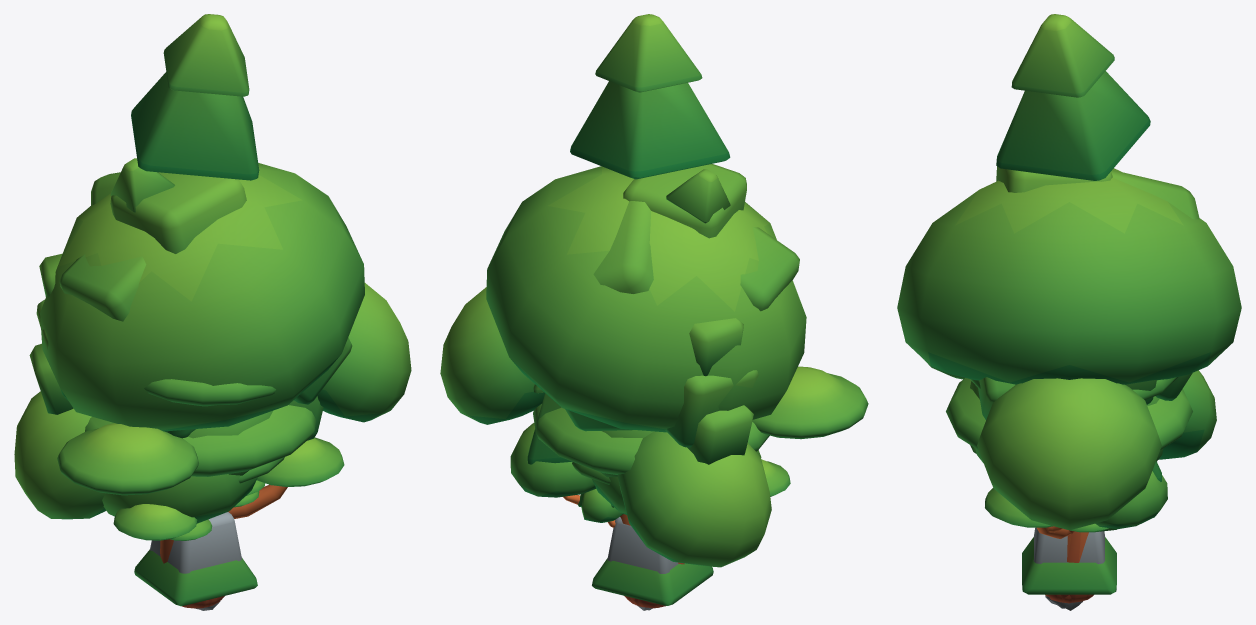
File: forest.glb
3 views of the same model, side by side, from view 1: azimuth 30°, elevation 25°; view 2: azimuth 150°, elevation 25°; view 3: azimuth 270°, elevation 25° (orthographic).
Visible parts, largest first — view 1: Tree_1_C_Color1, Tree_4_C_Color1, Tree_3_C_Color1, Tree_2_D_Color1, Tree_3_B_Color1, Bush_4_C_Color1, Tree_1_A_Color1, Rock_2_C_Color1, Tree_2_C_Color1, Tree_3_A_Color1, Tree_1_B_Color1, Tree_2_B_Color1; view 2: Tree_1_C_Color1, Tree_4_C_Color1, Tree_2_D_Color1, Tree_3_C_Color1, Tree_3_B_Color1, Tree_2_C_Color1, Bush_4_C_Color1, Tree_1_B_Color1, Rock_2_C_Color1, Tree_1_A_Color1; view 3: Tree_1_C_Color1, Tree_4_C_Color1, Tree_2_D_Color1, Bush_4_C_Color1, Tree_3_B_Color1, Tree_3_C_Color1, Tree_1_B_Color1, Rock_2_C_Color1.
Boxes of the visible parts, box(x1,y1,x2,y2) form: Tree_1_C_Color1: box(14, 163, 411, 607); Tree_4_C_Color1: box(110, 14, 259, 212); Tree_3_C_Color1: box(57, 379, 344, 608); Tree_2_D_Color1: box(36, 172, 352, 404); Tree_3_B_Color1: box(85, 405, 316, 540); Bush_4_C_Color1: box(134, 549, 257, 606); Tree_1_A_Color1: box(102, 474, 257, 523); Rock_2_C_Color1: box(150, 512, 241, 573); Tree_2_C_Color1: box(29, 299, 73, 414); Tree_3_A_Color1: box(170, 457, 284, 540); Tree_1_B_Color1: box(188, 410, 273, 475); Tree_2_B_Color1: box(164, 396, 323, 440); Tree_1_C_Color1: box(440, 166, 806, 606); Tree_4_C_Color1: box(527, 14, 730, 464); Tree_2_D_Color1: box(565, 164, 799, 447); Tree_3_C_Color1: box(620, 366, 868, 608); Tree_3_B_Color1: box(533, 404, 790, 496); Tree_2_C_Color1: box(665, 370, 758, 464); Bush_4_C_Color1: box(592, 558, 713, 605); Tree_1_B_Color1: box(510, 423, 653, 504); Rock_2_C_Color1: box(607, 517, 678, 573); Tree_1_A_Color1: box(581, 450, 761, 527); Tree_1_C_Color1: box(897, 168, 1241, 603); Tree_4_C_Color1: box(996, 14, 1161, 481); Tree_2_D_Color1: box(978, 166, 1199, 419); Bush_4_C_Color1: box(1022, 537, 1116, 594); Tree_3_B_Color1: box(946, 378, 1192, 453); Tree_3_C_Color1: box(924, 360, 1178, 602); Tree_1_B_Color1: box(970, 381, 1167, 529); Rock_2_C_Color1: box(1033, 527, 1105, 564).
Size of the model in its own units: 7.18 by 10.94 by 5.75.
Materials: 1 (1 with a texture image).
